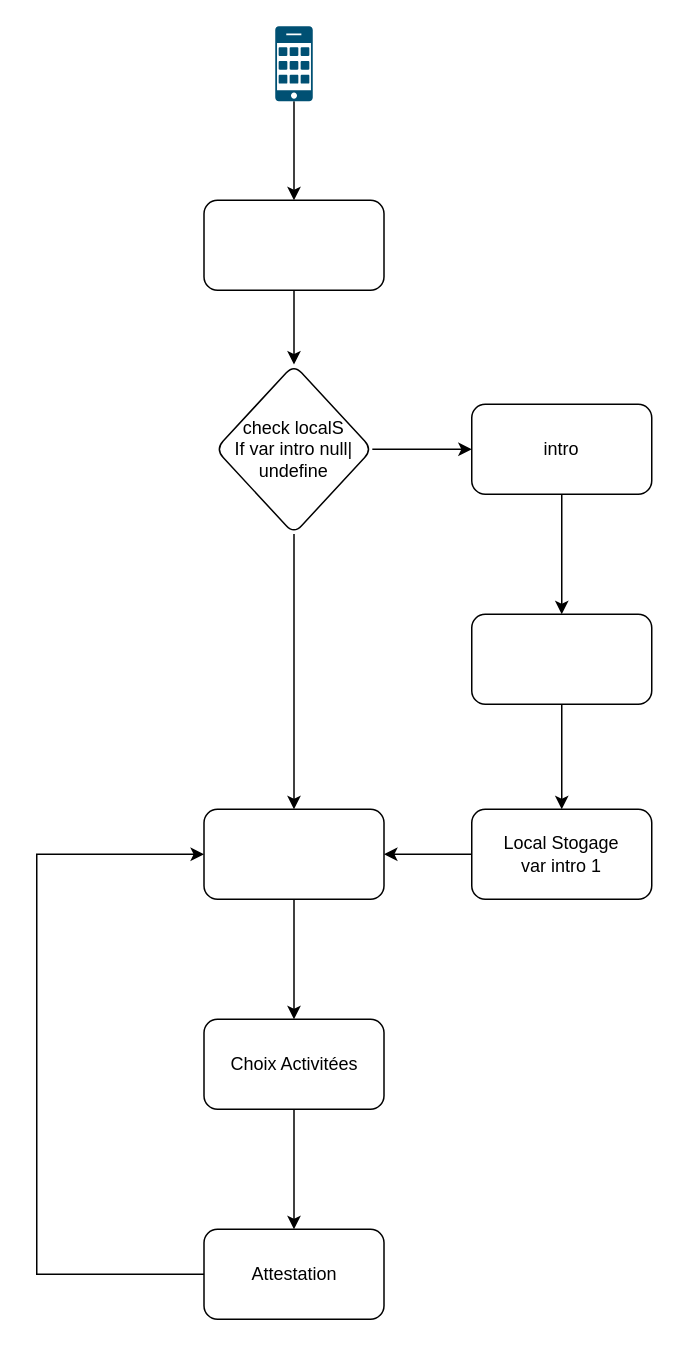
Image size: 678x1346. Some labels were removed from this diagram. Here are the shapes that lost their labels. From the top down, the box of each, then its label:
(202, 199, 384, 290): Open
(470, 613, 652, 704): Settings
(202, 808, 384, 899): Welcome
